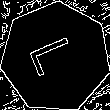L_NE: (26, 33, 85, 81)
